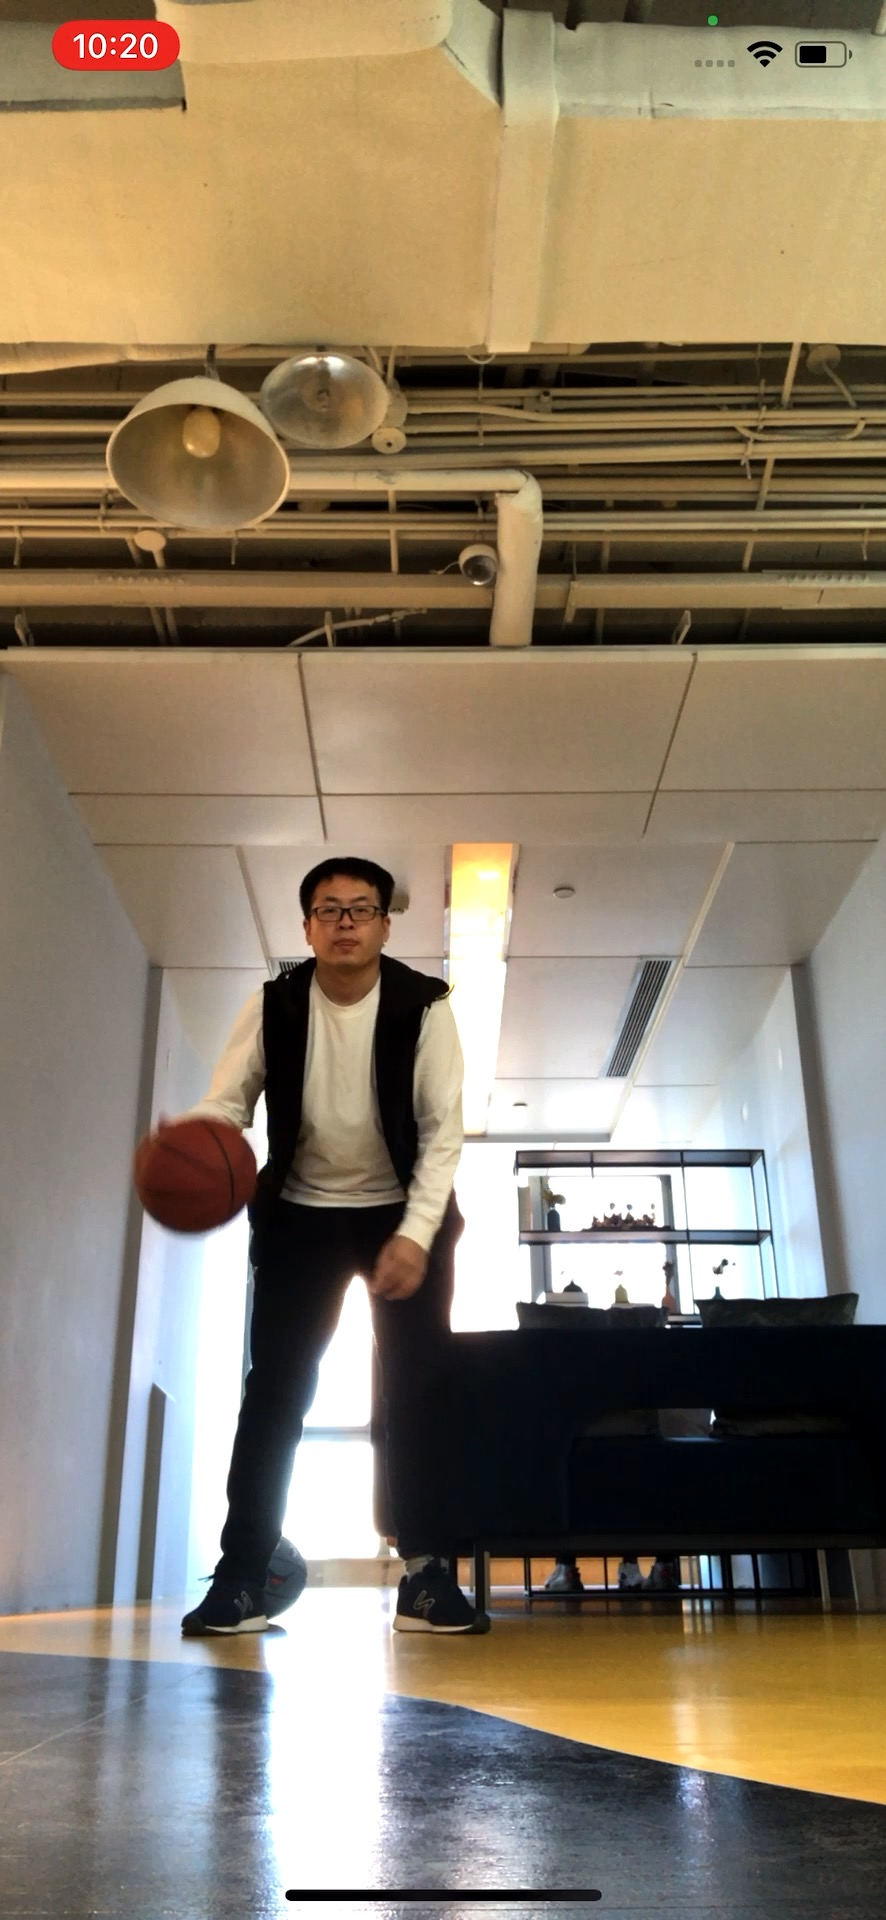ball: (135, 1119, 255, 1233)
